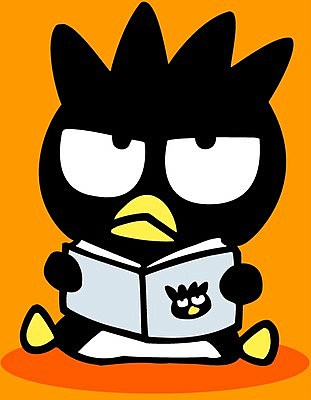batsumaru: (27, 3, 292, 362)
